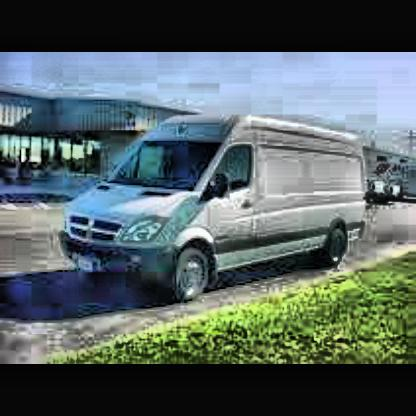Dodge Sprinter Cargo Van 2009: (59, 113, 371, 307)
